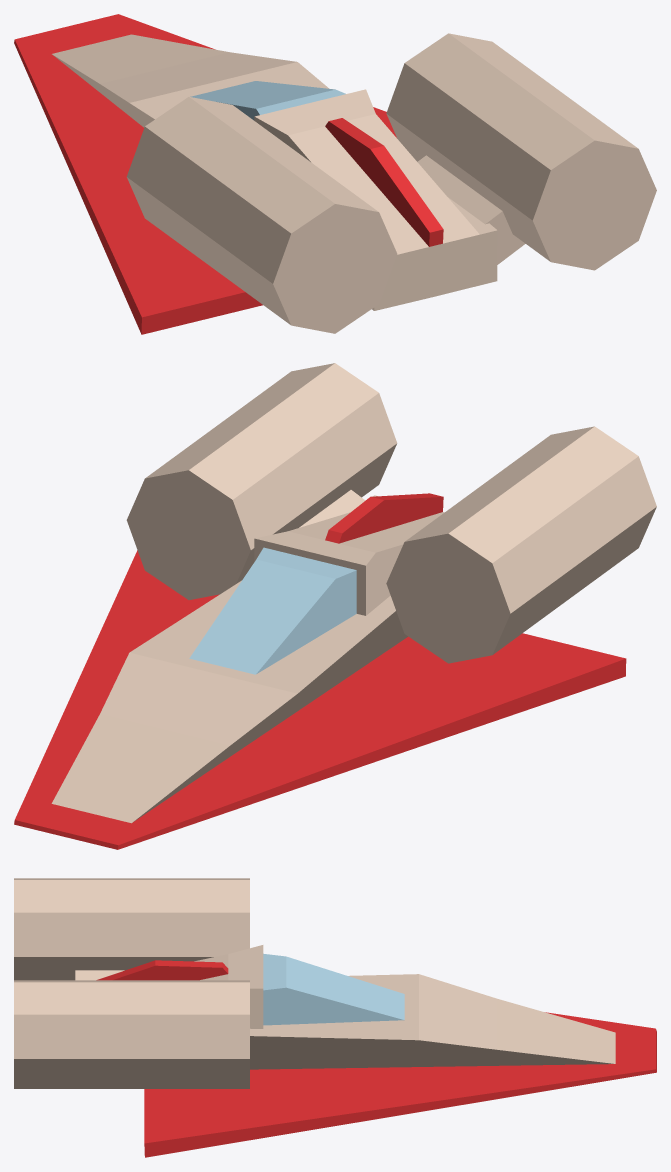
The model's file is RaceShip.fbx.
3 views of the same model, one above another, from view 1: azimuth 30°, elevation 25°; view 2: azimuth 150°, elevation 25°; view 3: azimuth 270°, elevation 25° (orthographic). The views are drawn at different scales.
Parts seen in each view (by area): view 1: Plane; view 2: Plane; view 3: Plane.
Part boxes in pixels (left/top/right/bottom): Plane: left=14, top=14, right=656, bottom=334; Plane: left=14, top=363, right=656, bottom=849; Plane: left=14, top=878, right=656, bottom=1157.
Size of the model in its own units: 298 by 95.83 by 425.
